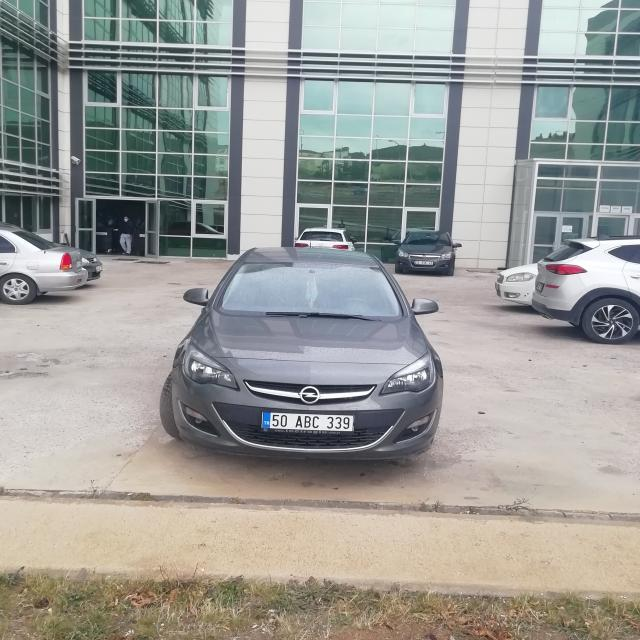license_plate: (260, 411, 354, 430)
